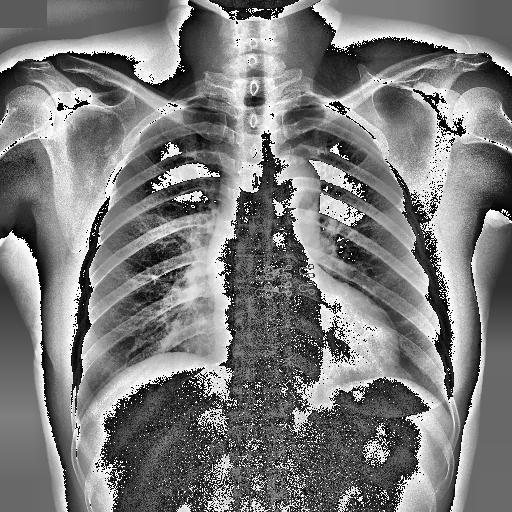0- Aortic enlargement: (264, 154, 322, 234), (261, 155, 320, 212), (264, 158, 320, 206)
3- Cardiomegaly: (207, 290, 405, 382), (207, 327, 400, 389)
